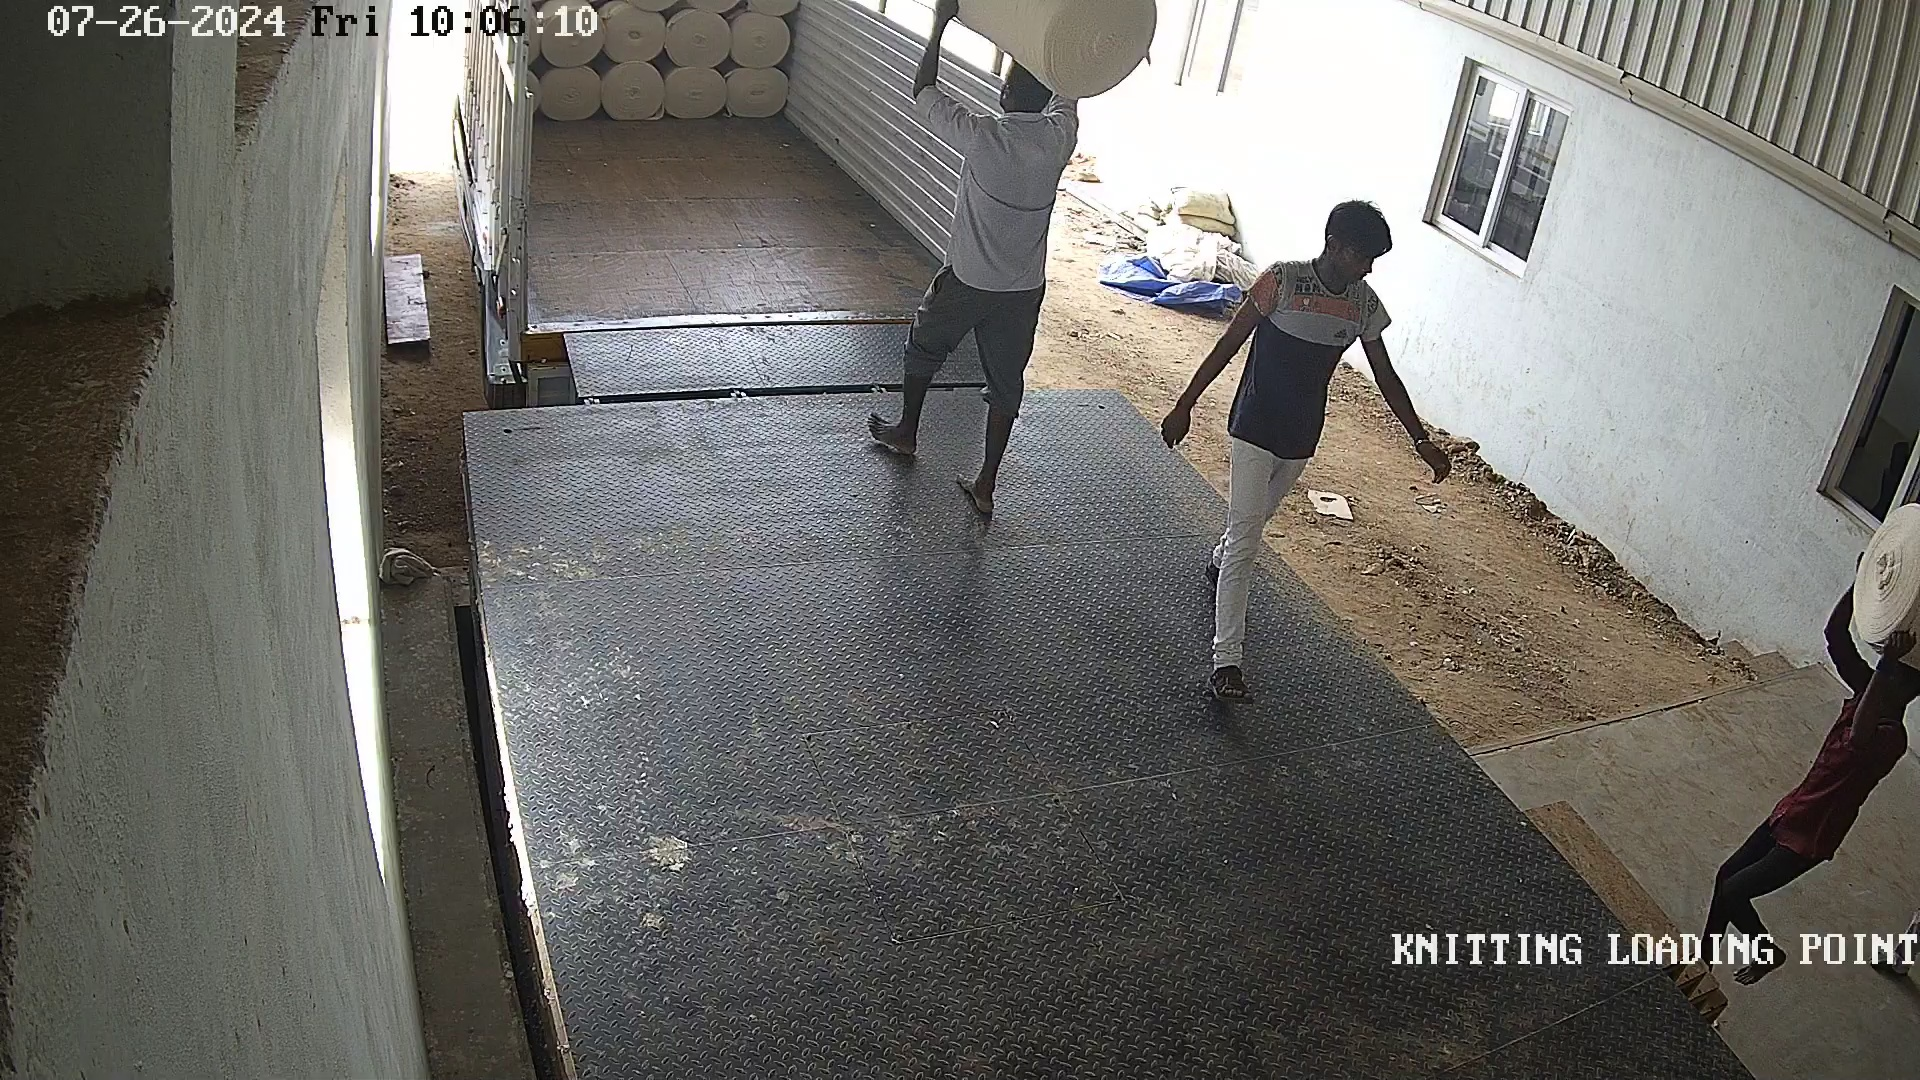bag: (920, 1, 1170, 96)
